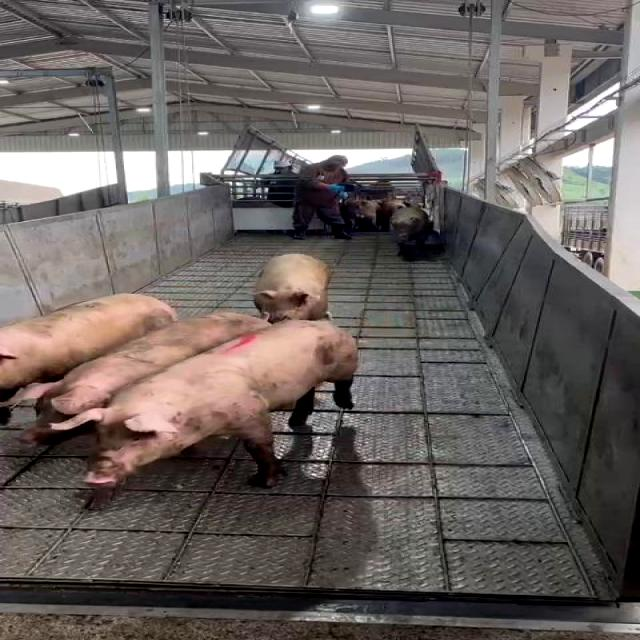pig: (53, 320, 358, 508), (21, 312, 270, 443), (0, 294, 176, 398), (254, 254, 330, 322), (390, 205, 433, 246)
